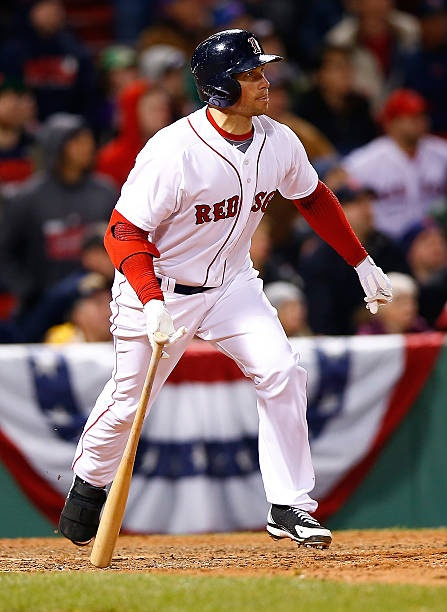bita: (83, 333, 169, 563)
